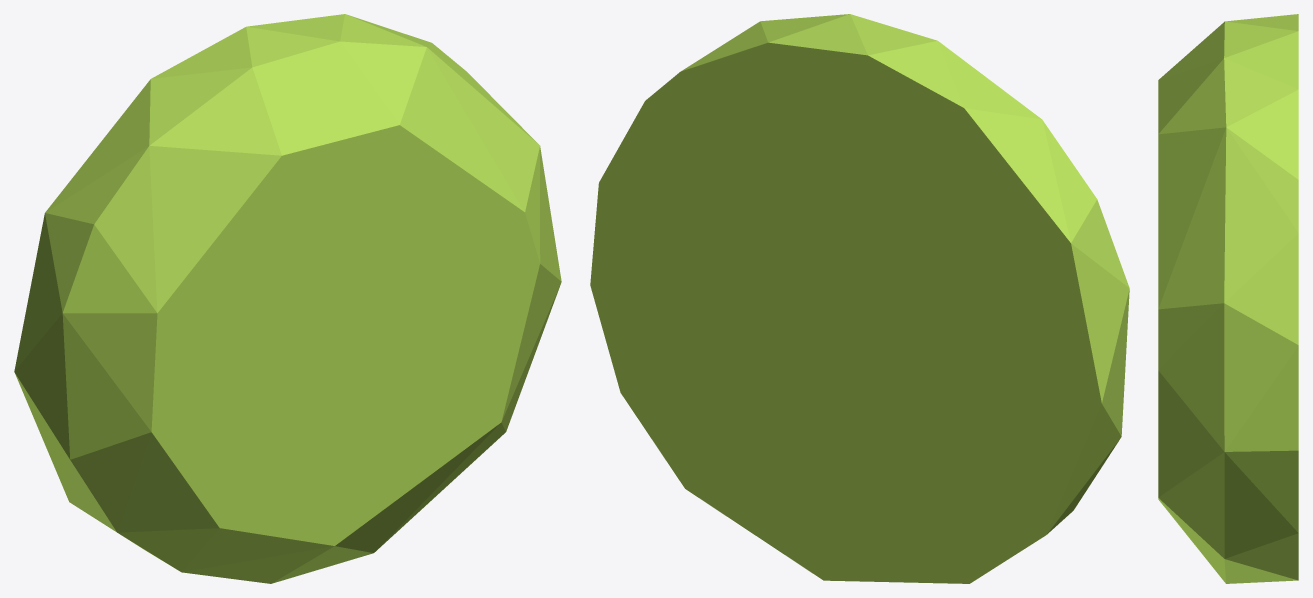
Rendered from ur3_link_2_coll_3.dae.
The picture shows the model from 3 angles, left to right: view 1: azimuth 30°, elevation 25°; view 2: azimuth 150°, elevation 25°; view 3: azimuth 270°, elevation 25°; orthographic projection. The views are drawn at different scales.
Visible parts, largest first — view 1: Node_000002223FC9B2B0; view 2: Node_000002223FC9B2B0; view 3: Node_000002223FC9B2B0.
Part boxes in pixels (box(x1,y1,x2,y2)): Node_000002223FC9B2B0: box(14, 14, 561, 583); Node_000002223FC9B2B0: box(590, 14, 1129, 583); Node_000002223FC9B2B0: box(1158, 14, 1298, 583).
Size of the model in its own units: 0.0896 by 0.0893 by 0.0219.
